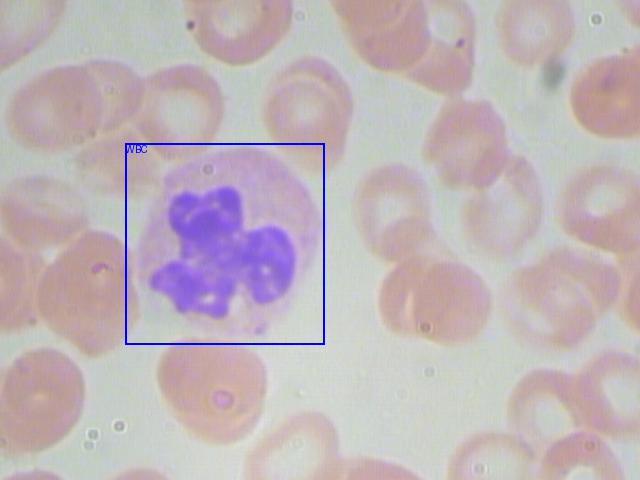WBC: (125, 143, 324, 344)
